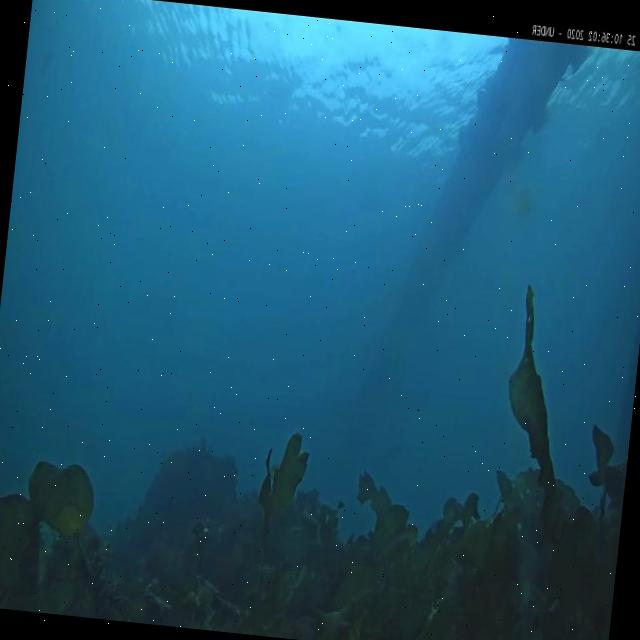fish: (376, 440, 406, 466)
